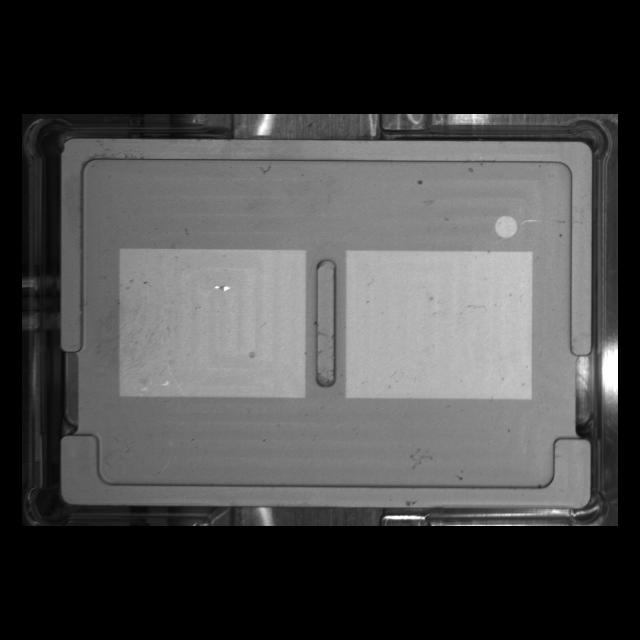door: (45, 419, 602, 515)
point: (490, 211, 521, 243)
